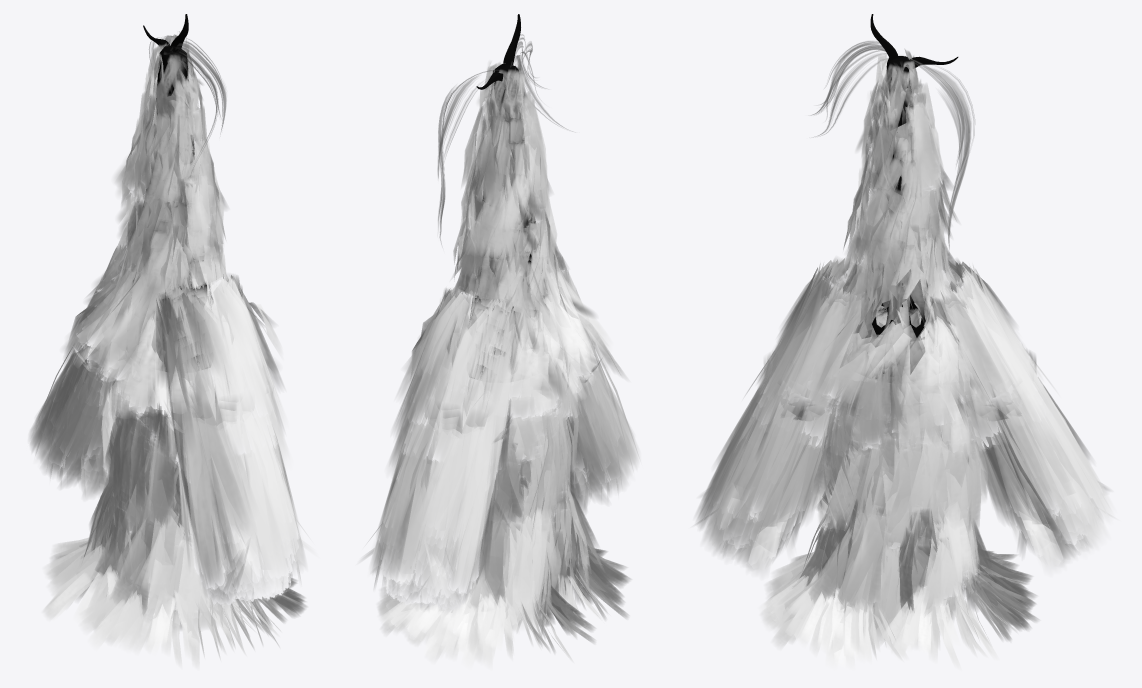
File: Kukeri.glb
The picture shows the model from 3 angles, left to right: view 1: azimuth 30°, elevation 25°; view 2: azimuth 150°, elevation 25°; view 3: azimuth 270°, elevation 25°; orthographic projection. The views are drawn at different scales.
Visible parts, largest first — view 1: BODY_HAIR.001, Ponytail.001; view 2: BODY_HAIR.001, Ponytail.001; view 3: BODY_HAIR.001, Ponytail.001.
Boxes of the visible parts, bbox=[...] form: BODY_HAIR.001: bbox=[29, 14, 315, 669]; Ponytail.001: bbox=[149, 31, 226, 152]; BODY_HAIR.001: bbox=[360, 14, 640, 669]; Ponytail.001: bbox=[437, 34, 572, 240]; BODY_HAIR.001: bbox=[695, 14, 1115, 669]; Ponytail.001: bbox=[811, 41, 974, 248].
Bounding box in the file's own units: 1.16 × 3 × 1.96.
5 materials, 3 textured.
